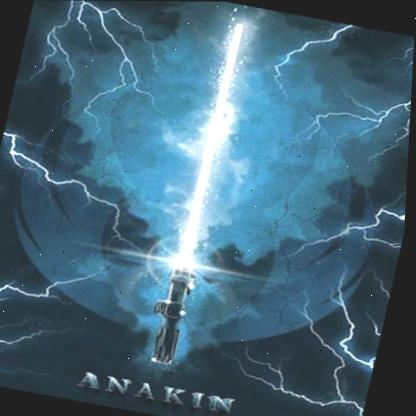lightsaber: (136, 13, 266, 373)
